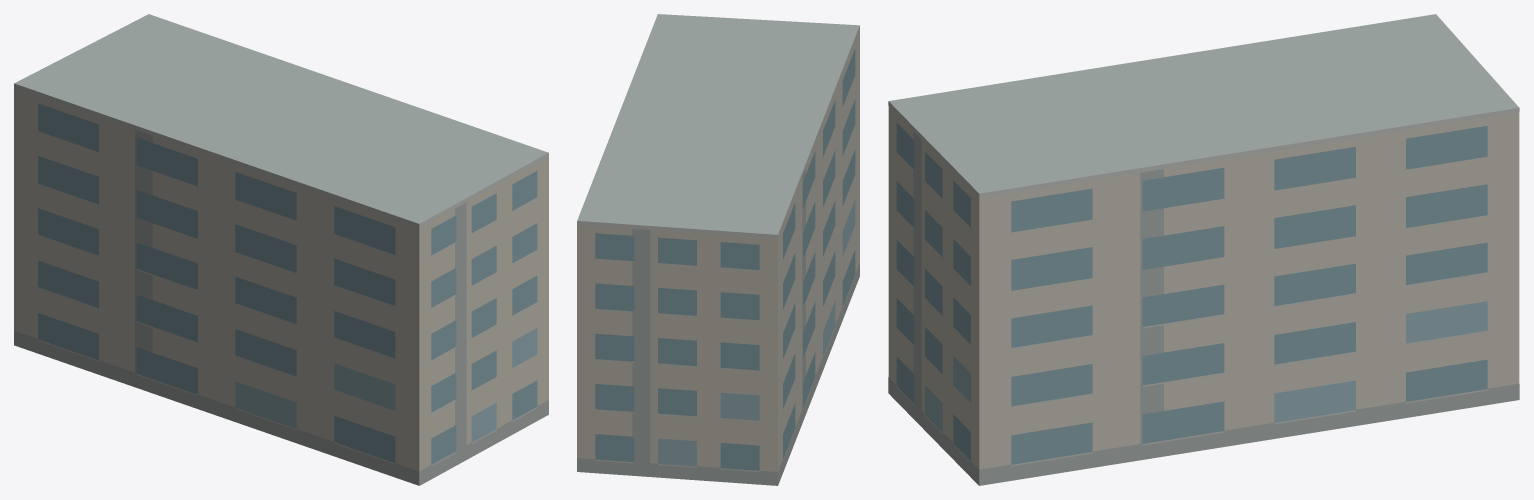
The model's file is survey-upis-32855310.glb.
3 renders of one model, left to right at view 1: azimuth 30°, elevation 25°; view 2: azimuth 150°, elevation 25°; view 3: azimuth 270°, elevation 25°, orthographic. The views are drawn at different scales.
Visible parts, largest first — view 1: survey-upis-32855310.tmp; view 2: survey-upis-32855310.tmp; view 3: survey-upis-32855310.tmp.
Part boxes in pixels (x1,y1,x2,y2): survey-upis-32855310.tmp: [14, 14, 548, 485]; survey-upis-32855310.tmp: [577, 14, 859, 485]; survey-upis-32855310.tmp: [888, 14, 1519, 485].
Bounding box in the file's own units: 20.12 × 15.25 × 29.85.
